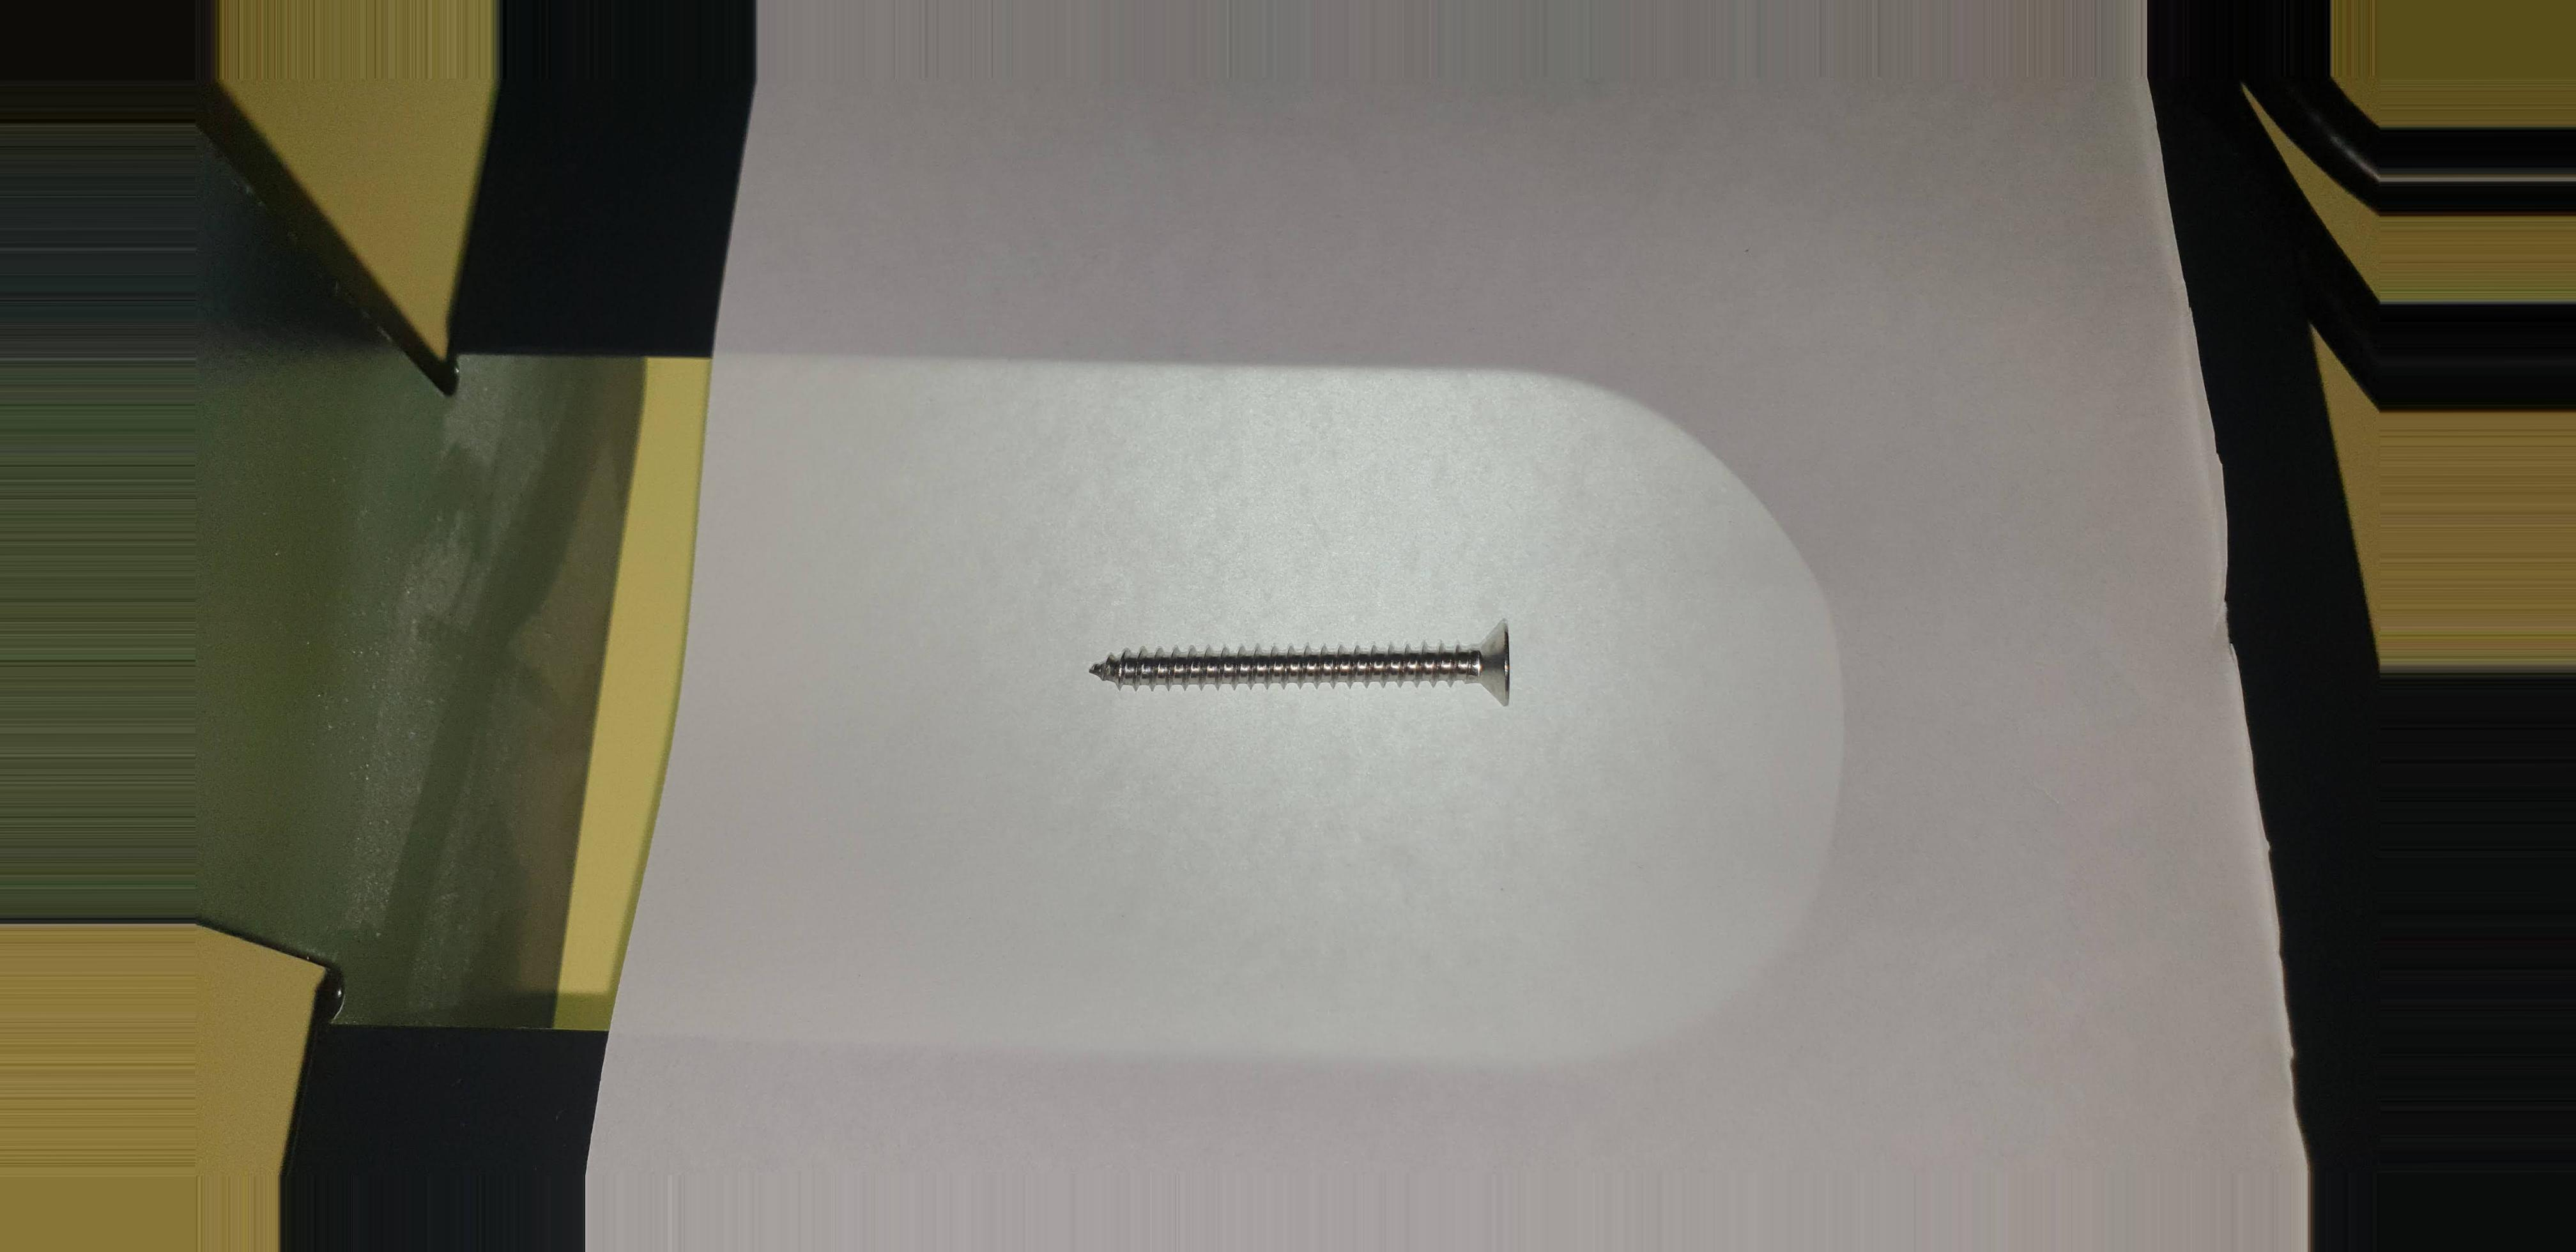fastener: (1056, 603, 1538, 718)
